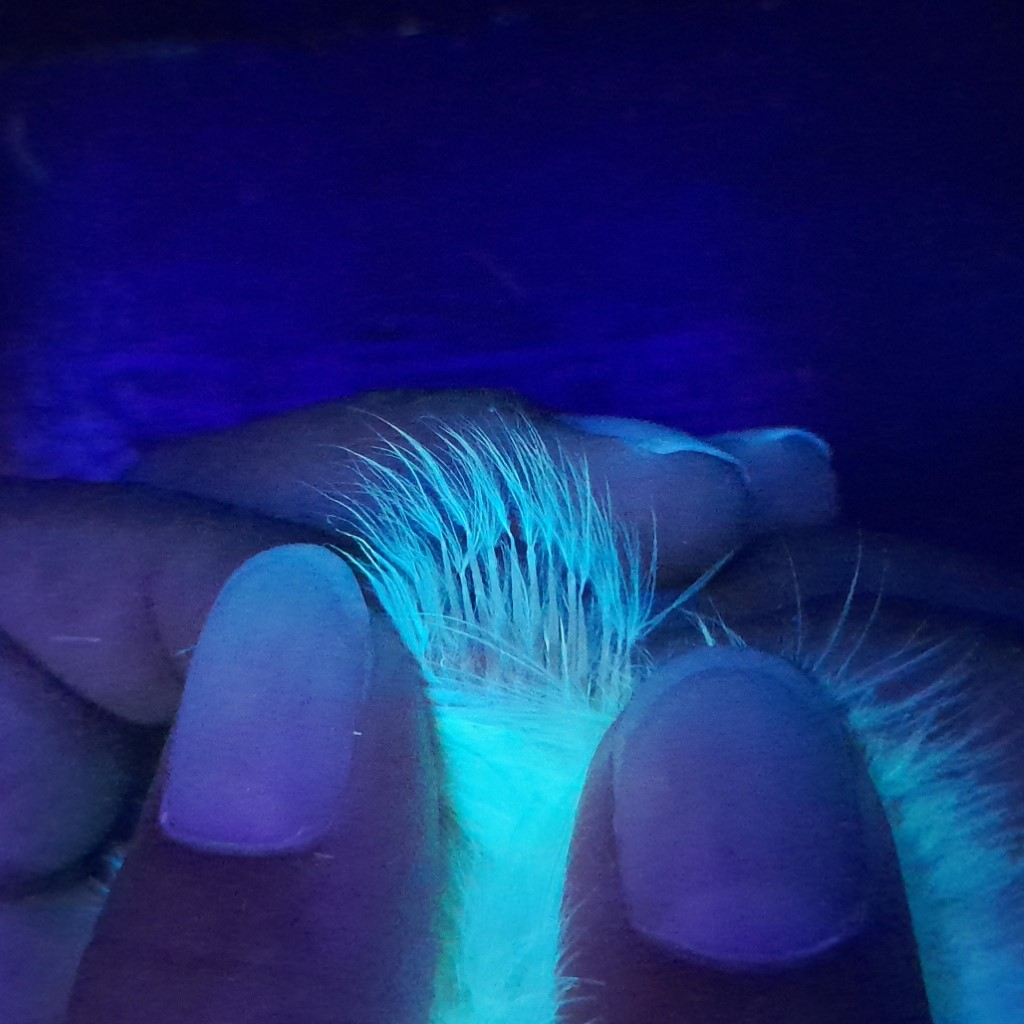male: (390, 517, 658, 716)
